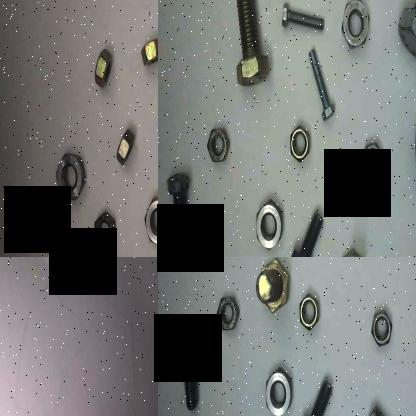Bolts: (228, 0, 272, 89), (171, 335, 207, 415), (254, 257, 293, 321), (304, 50, 338, 120), (166, 170, 196, 248), (276, 1, 330, 35), (290, 208, 326, 257), (299, 375, 339, 416), (396, 0, 416, 68), (337, 238, 371, 257)
NUTS: (53, 148, 89, 207), (249, 197, 282, 255), (261, 361, 293, 416), (340, 0, 374, 51), (368, 302, 396, 352), (214, 288, 242, 338), (297, 290, 323, 340), (110, 122, 136, 171), (358, 136, 386, 181), (90, 43, 116, 91), (92, 209, 118, 257), (288, 122, 314, 170), (204, 125, 232, 168), (141, 189, 158, 250), (138, 34, 158, 71)
